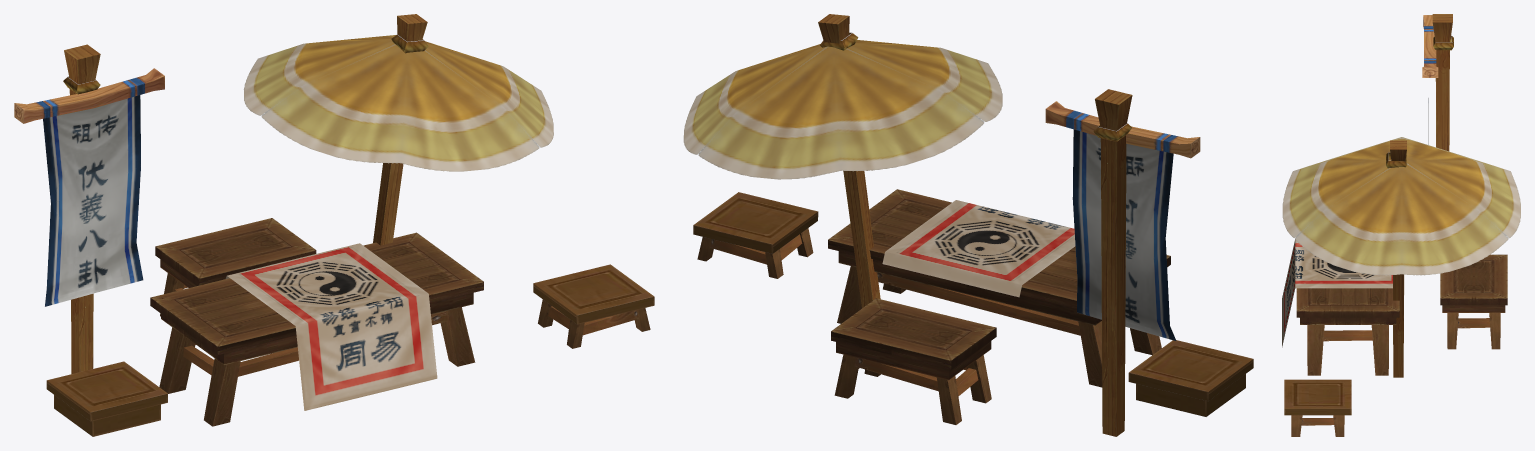
Rendered from szc_object_tanwei19a_guatan.FBX.
3 views of the same model, side by side, from view 1: azimuth 30°, elevation 25°; view 2: azimuth 150°, elevation 25°; view 3: azimuth 270°, elevation 25° (orthographic). The views are drawn at different scales.
Parts seen in each view (by area): view 1: szc_object_tanwei19a_guatan; view 2: szc_object_tanwei19a_guatan; view 3: szc_object_tanwei19a_guatan.
Part boxes in pixels (x1,y1,x2,y2): szc_object_tanwei19a_guatan: [14, 14, 654, 436]; szc_object_tanwei19a_guatan: [683, 14, 1253, 436]; szc_object_tanwei19a_guatan: [1282, 14, 1520, 436].
Bounding box in the file's own units: 476 × 288 × 239.
